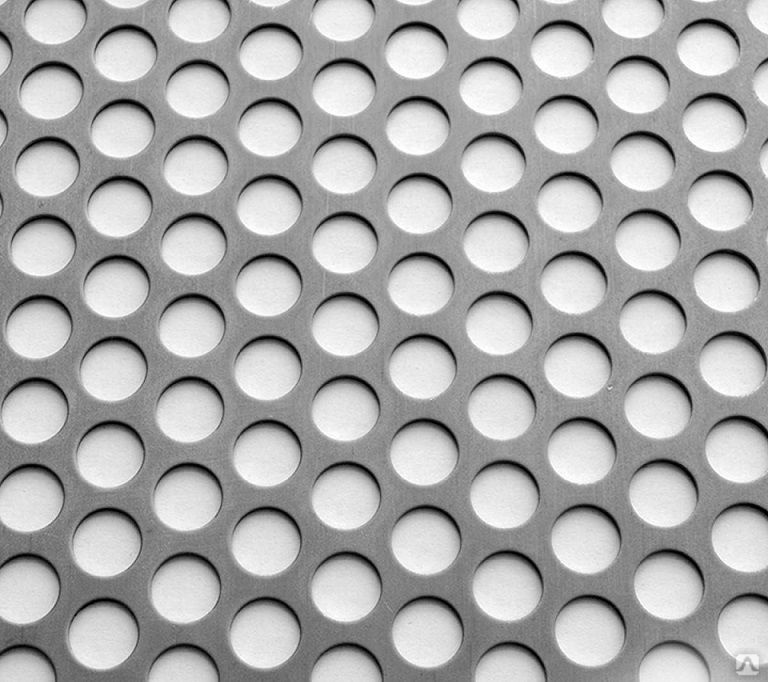Hole: (387, 591, 468, 673), (630, 543, 711, 625), (225, 592, 307, 671), (550, 589, 629, 671), (148, 459, 229, 536), (547, 500, 627, 577), (66, 593, 141, 675), (466, 455, 543, 534), (470, 546, 547, 625), (228, 502, 305, 581), (625, 455, 702, 532), (309, 550, 386, 627), (147, 548, 223, 626), (538, 330, 618, 404), (307, 459, 384, 535), (228, 331, 307, 405), (71, 416, 145, 495), (620, 368, 700, 441), (229, 416, 306, 491), (69, 505, 143, 582), (615, 284, 693, 357), (534, 248, 615, 318), (388, 414, 463, 489), (388, 504, 463, 579), (543, 413, 620, 486), (465, 371, 543, 443), (686, 246, 766, 316), (384, 329, 459, 402), (695, 327, 768, 402), (1, 373, 74, 448), (153, 374, 229, 446), (156, 209, 230, 282), (232, 173, 311, 241), (2, 291, 75, 364), (76, 334, 152, 404), (384, 249, 461, 318), (527, 91, 607, 157), (235, 16, 306, 90), (461, 286, 535, 357), (309, 373, 383, 444), (307, 289, 382, 359), (16, 54, 87, 127), (231, 249, 304, 320), (453, 52, 529, 120), (533, 167, 606, 237), (677, 88, 751, 157), (88, 19, 163, 87), (684, 166, 759, 234), (383, 168, 456, 237), (160, 55, 234, 123), (379, 16, 453, 84), (79, 251, 153, 319), (609, 206, 684, 273), (84, 171, 156, 240), (308, 210, 382, 277), (600, 52, 675, 118), (459, 207, 534, 273), (307, 54, 379, 122), (156, 292, 229, 359), (309, 130, 383, 196), (234, 93, 308, 159), (7, 211, 77, 280), (607, 125, 678, 193), (87, 96, 160, 162), (671, 16, 747, 79), (382, 91, 452, 158), (526, 15, 596, 82), (12, 132, 82, 199), (161, 134, 233, 197), (457, 130, 528, 193)
